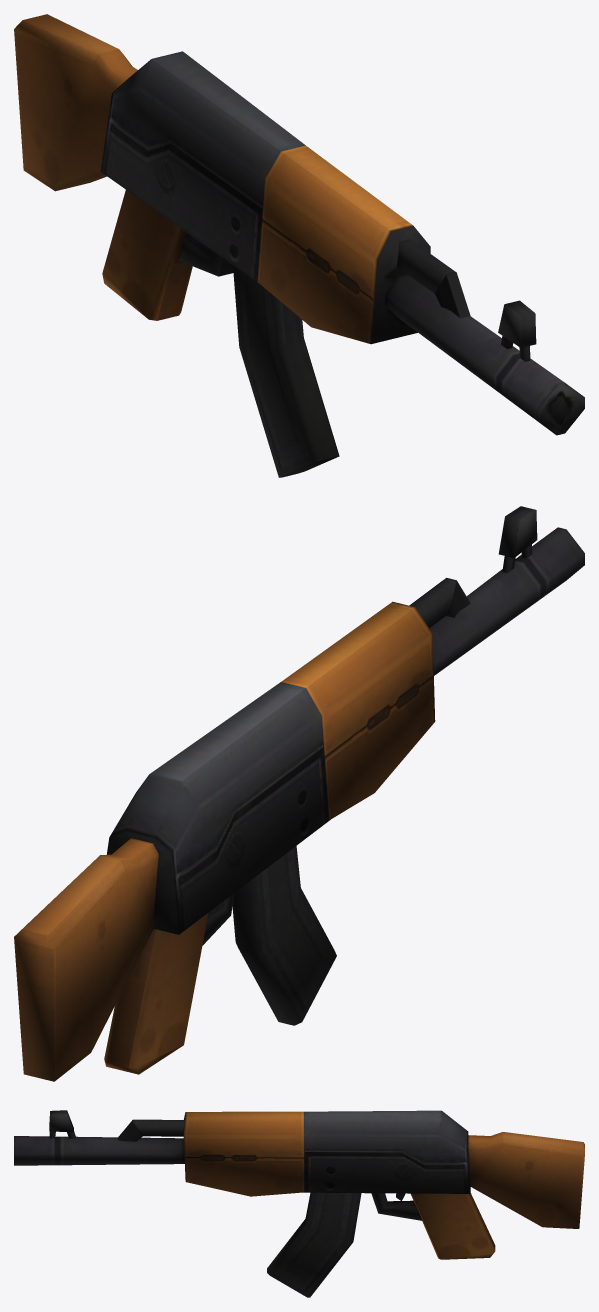
3 renders of one model, top to bottom at view 1: azimuth 30°, elevation 25°; view 2: azimuth 150°, elevation 25°; view 3: azimuth 270°, elevation 25°, orthographic. The views are drawn at different scales.
Parts seen in each view (by area): view 1: AK47_0, AK47_0.001; view 2: AK47_0, AK47_0.001; view 3: AK47_0, AK47_0.001.
Boxes of the visible parts, bbox=[...] form: AK47_0: bbox=[14, 14, 584, 435]; AK47_0.001: bbox=[233, 265, 339, 477]; AK47_0: bbox=[14, 506, 584, 1081]; AK47_0.001: bbox=[232, 846, 336, 1025]; AK47_0: bbox=[14, 1110, 584, 1259]; AK47_0.001: bbox=[267, 1192, 361, 1297].
Size of the model in its own units: 11.07 by 44.37 by 125.
